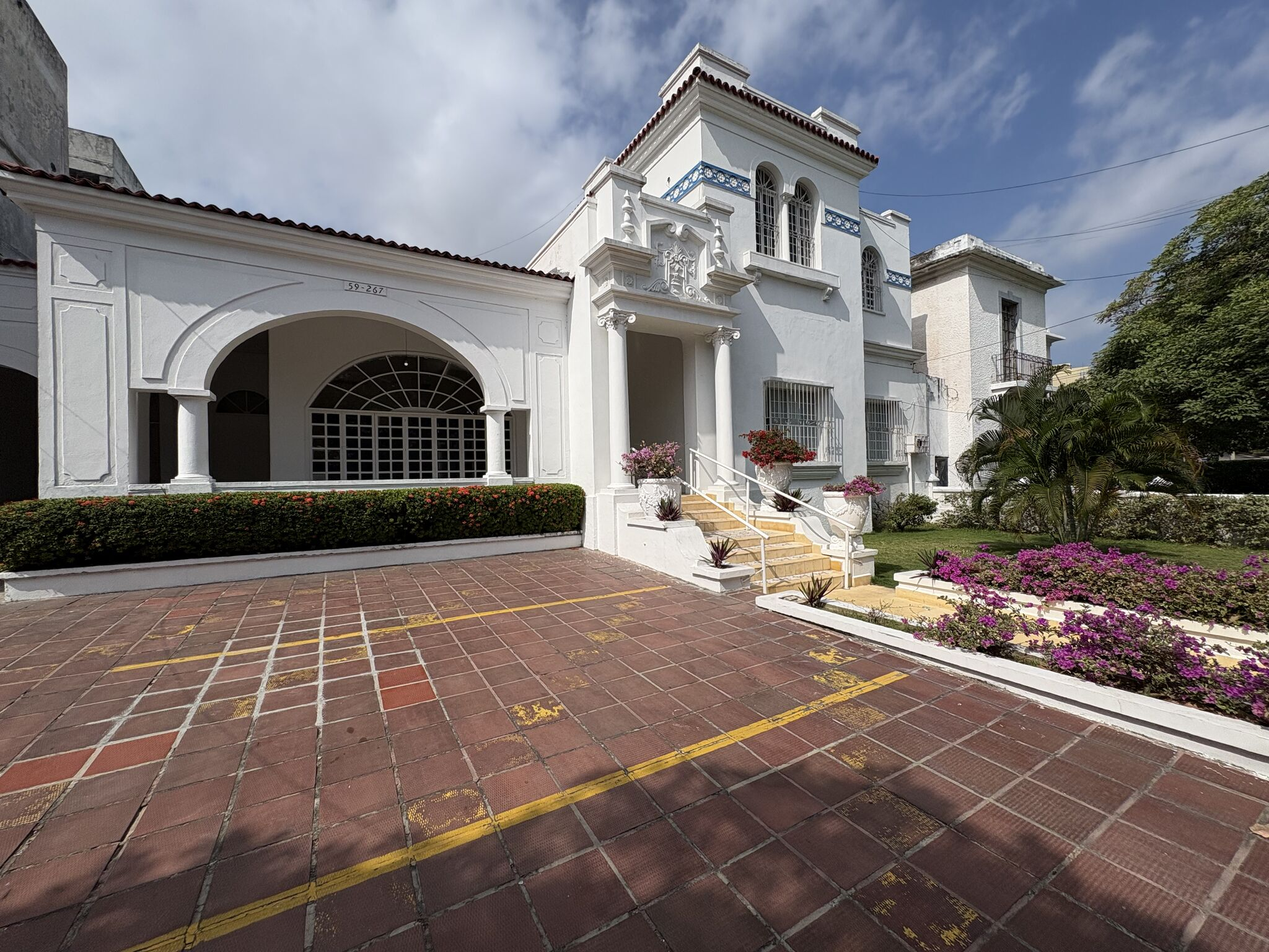House: (11, 38, 1105, 559)
